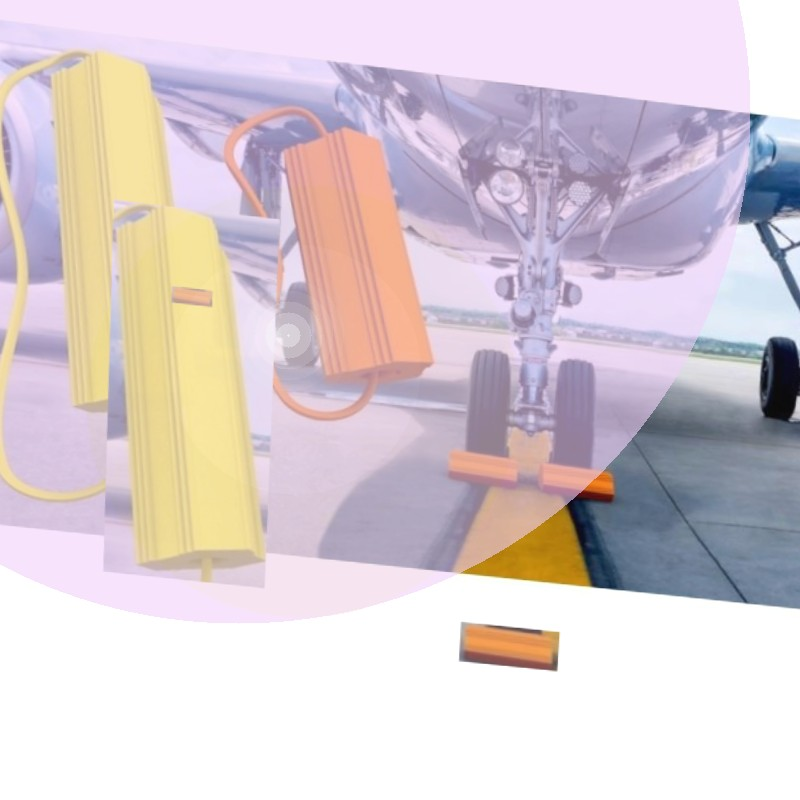chock: (90, 199, 288, 589), (25, 45, 220, 432), (266, 121, 453, 400), (459, 622, 560, 671), (533, 458, 620, 505), (444, 448, 523, 488), (201, 343, 249, 364), (171, 286, 213, 307)
wheel: (551, 357, 601, 470), (464, 347, 514, 458), (211, 268, 261, 357), (278, 277, 325, 367), (756, 333, 800, 422)
